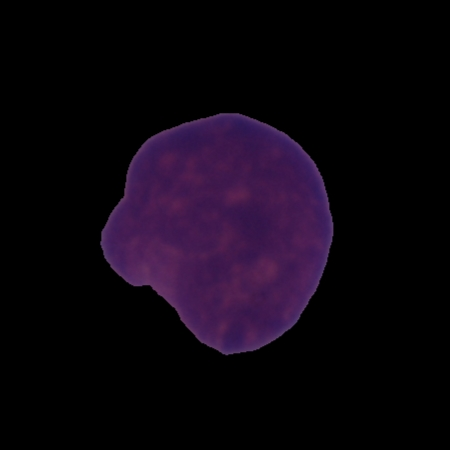ALL: (95, 109, 337, 356)
